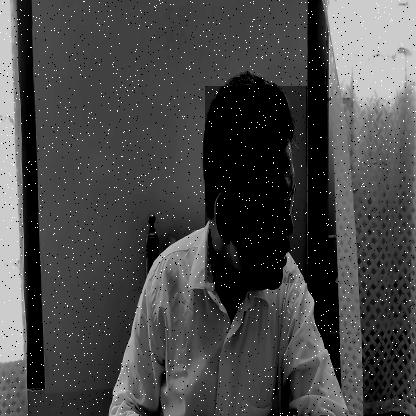Distracted: (206, 86, 308, 283)
